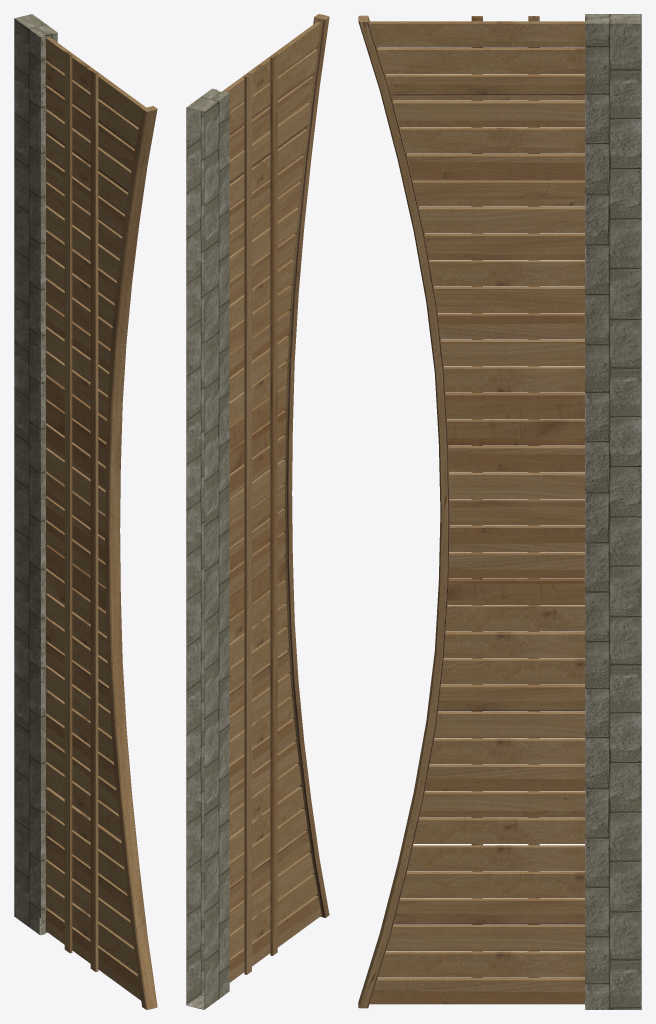
Rendered from nt_concrete_fence_192_LOD0.obj.
3 views of the same model, side by side, from view 1: azimuth 30°, elevation 25°; view 2: azimuth 150°, elevation 25°; view 3: azimuth 270°, elevation 25° (orthographic). The views are drawn at different scales.
Visible parts, largest first — view 1: nt_wood_fence, nt_2020_concrete_pattern_02; view 2: nt_wood_fence, nt_2020_concrete_pattern_02; view 3: nt_wood_fence, nt_2020_concrete_pattern_02.
Part boxes in pixels (x1,y1,x2,y2): nt_wood_fence: [46, 37, 157, 1009]; nt_2020_concrete_pattern_02: [14, 14, 57, 935]; nt_wood_fence: [222, 14, 329, 982]; nt_2020_concrete_pattern_02: [186, 88, 229, 1009]; nt_wood_fence: [358, 15, 584, 1008]; nt_2020_concrete_pattern_02: [585, 14, 641, 1009].
Size of the model in its own units: 10.16 by 488 by 127.
2 materials, 2 textured.
